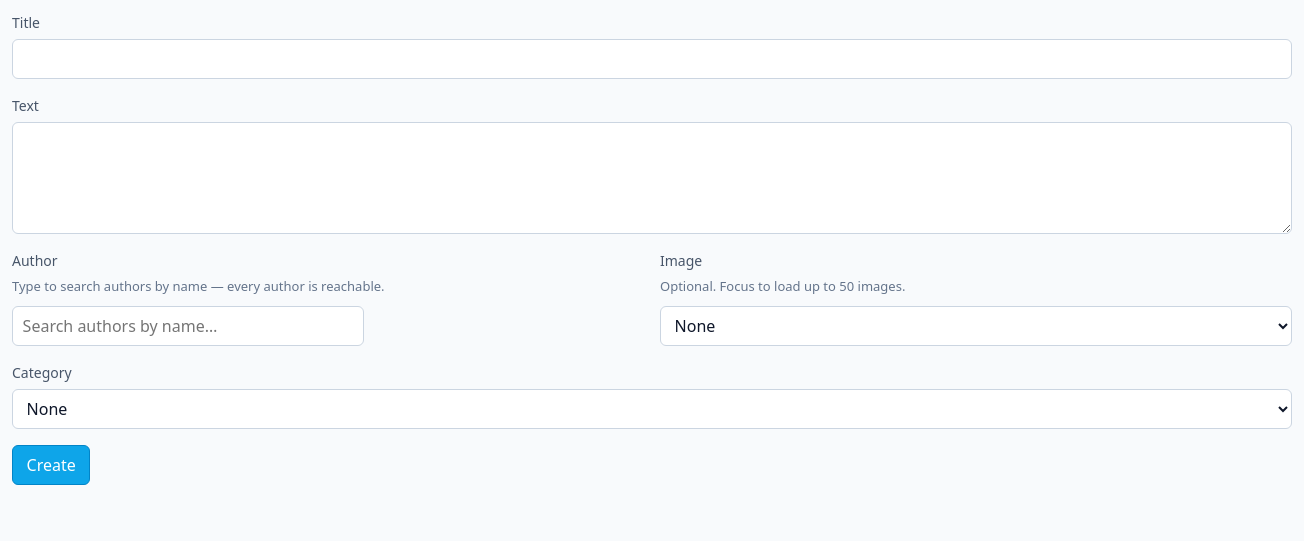
<QuoteForm mode='create'> › blocks submit when text is empty after a non-empty title
Step 1. Type "Hello" into the field → {"x": 652, "y": 59}, box [12,39,1292,79]
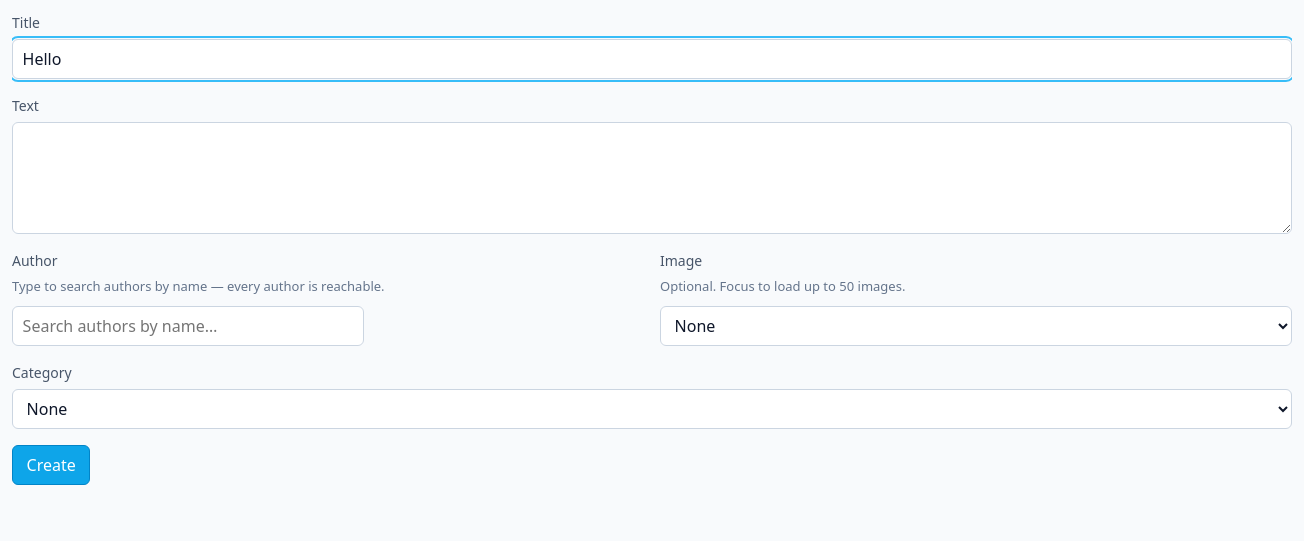
Step 2. Click the button "Create" → {"x": 51, "y": 465}, box [12,445,90,485]
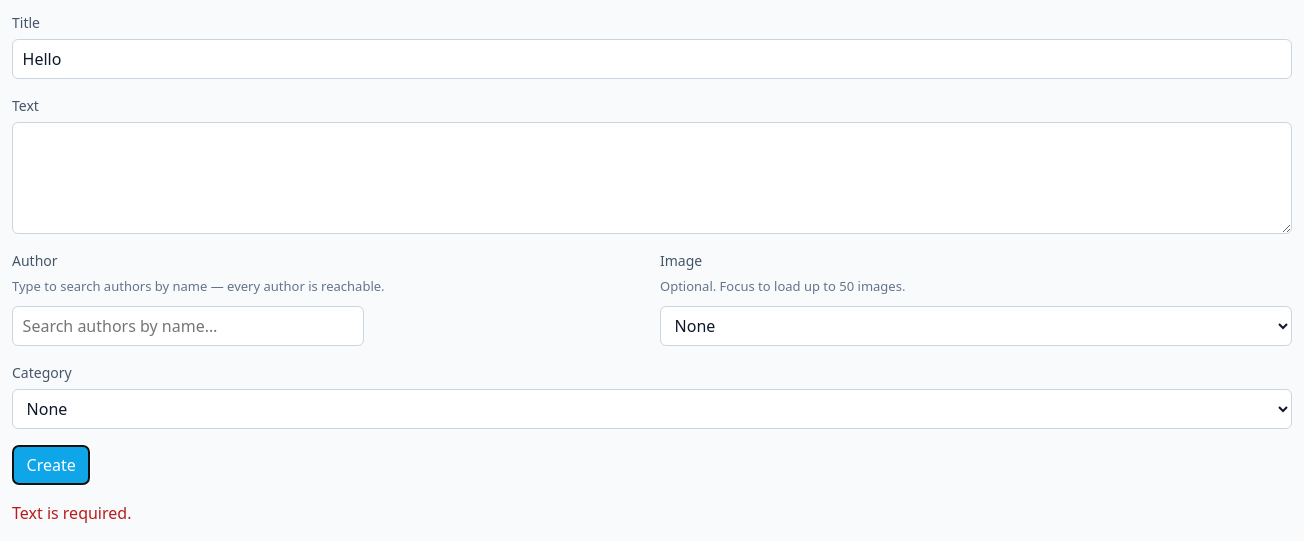
Now the text "Text is required." is shown, box [12,502,132,524]
